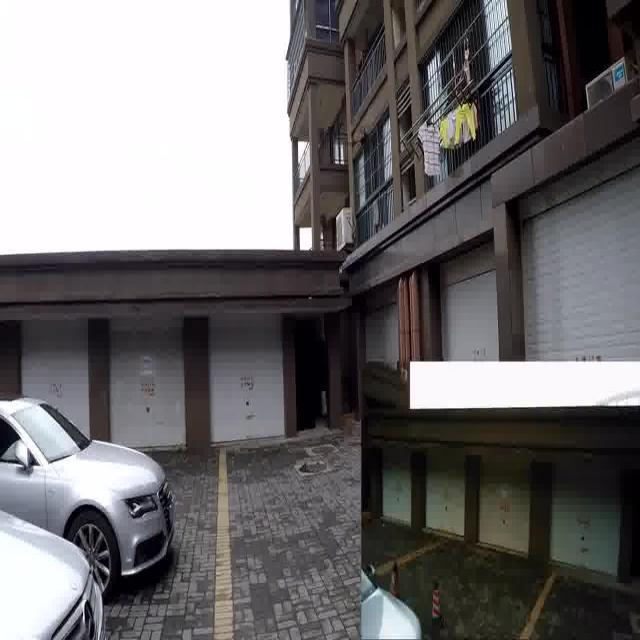drones: (343, 113, 379, 164)
